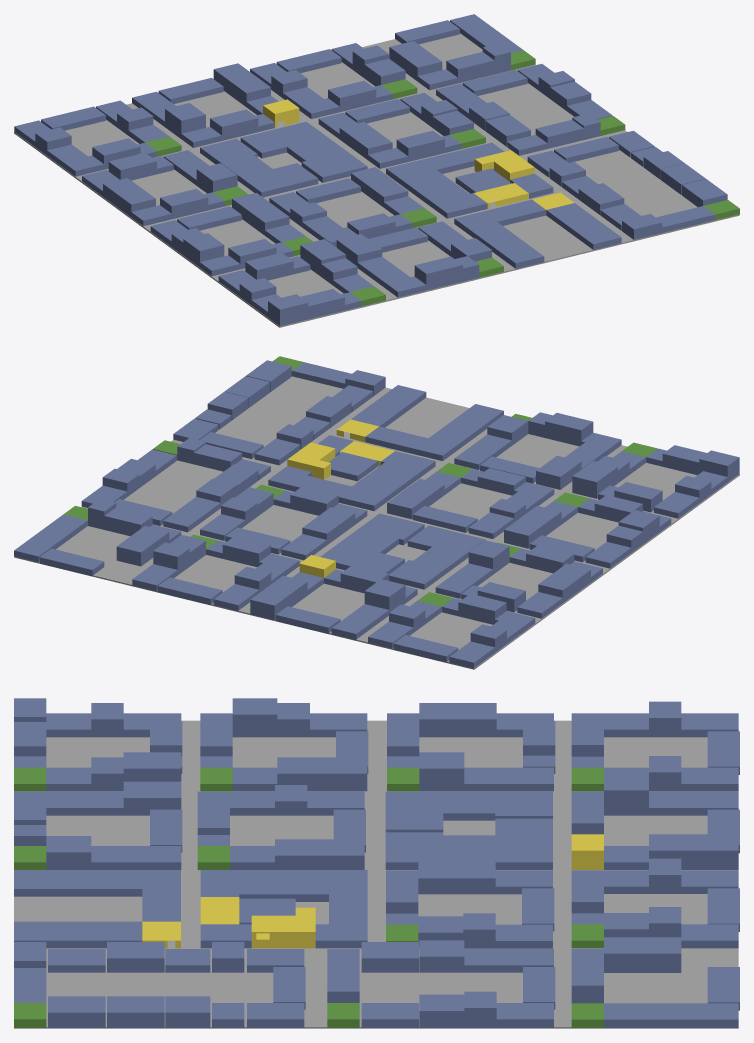
The model's file is WawaModulos.fbx.
The picture shows the model from 3 angles, top to bottom: view 1: azimuth 30°, elevation 25°; view 2: azimuth 150°, elevation 25°; view 3: azimuth 270°, elevation 25°; orthographic projection. The views are drawn at different scales.
Parts seen in each view (by area): view 1: polySurface143, polySurface62, polySurface139, polySurface192, polySurface105, polySurface178, polySurface200, polySurface89, polySurface74, polySurface87, polySurface41, polySurface58 (+94 smaller); view 2: polySurface143, polySurface75, polySurface62, polySurface139, polySurface133, polySurface82, polySurface68, polySurface155, polySurface178, polySurface167, polySurface200, polySurface89 (+85 smaller); view 3: polySurface143, polySurface139, polySurface133, polySurface155, polySurface89, polySurface68, polySurface228, polySurface229, polySurface86, polySurface153, polySurface60, polySurface212 (+139 smaller).
Boxes of the visible parts, x1=… form: polySurface143: x1=14, y1=33, x2=739, y2=327; polySurface62: x1=414, y1=256, x2=462, y2=290; polySurface139: x1=474, y1=150, x2=534, y2=181; polySurface192: x1=446, y1=52, x2=494, y2=83; polySurface105: x1=210, y1=109, x2=258, y2=140; polySurface178: x1=328, y1=80, x2=376, y2=111; polySurface200: x1=396, y1=130, x2=444, y2=161; polySurface89: x1=165, y1=103, x2=205, y2=138; polySurface74: x1=268, y1=294, x2=308, y2=326; polySurface87: x1=160, y1=189, x2=208, y2=219; polySurface41: x1=108, y1=152, x2=156, y2=180; polySurface58: x1=245, y1=252, x2=293, y2=280; polySurface143: x1=14, y1=376, x2=739, y2=669; polySurface75: x1=572, y1=461, x2=617, y2=498; polySurface62: x1=545, y1=413, x2=593, y2=446; polySurface139: x1=287, y1=442, x2=335, y2=479; polySurface133: x1=250, y1=584, x2=295, y2=620; polySurface82: x1=389, y1=560, x2=445, y2=589; polySurface68: x1=536, y1=455, x2=581, y2=489; polySurface155: x1=504, y1=514, x2=549, y2=548; polySurface178: x1=222, y1=536, x2=270, y2=567; polySurface167: x1=458, y1=593, x2=506, y2=624; polySurface200: x1=290, y1=486, x2=338, y2=515; polySurface89: x1=364, y1=579, x2=405, y2=612; polySurface143: x1=14, y1=720, x2=738, y2=1028; polySurface139: x1=251, y1=907, x2=315, y2=948; polySurface133: x1=681, y1=834, x2=738, y2=869; polySurface155: x1=310, y1=757, x2=367, y2=791; polySurface89: x1=604, y1=774, x2=648, y2=815; polySurface68: x1=123, y1=781, x2=181, y2=815; polySurface228: x1=107, y1=996, x2=164, y2=1027; polySurface229: x1=48, y1=996, x2=105, y2=1027; polySurface86: x1=419, y1=752, x2=464, y2=791; polySurface153: x1=232, y1=698, x2=277, y2=737; polySurface60: x1=307, y1=839, x2=364, y2=869; polySurface212: x1=107, y1=942, x2=164, y2=972.
Bounding box in the file's own units: 34722 × 1433 × 34759.
